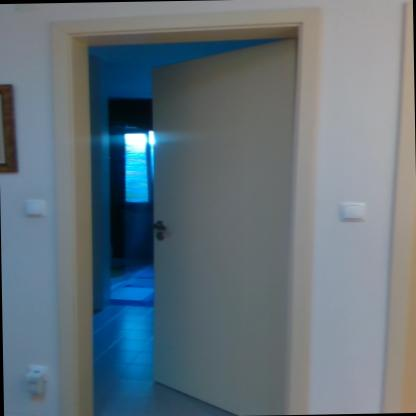semi: (45, 9, 322, 416)
